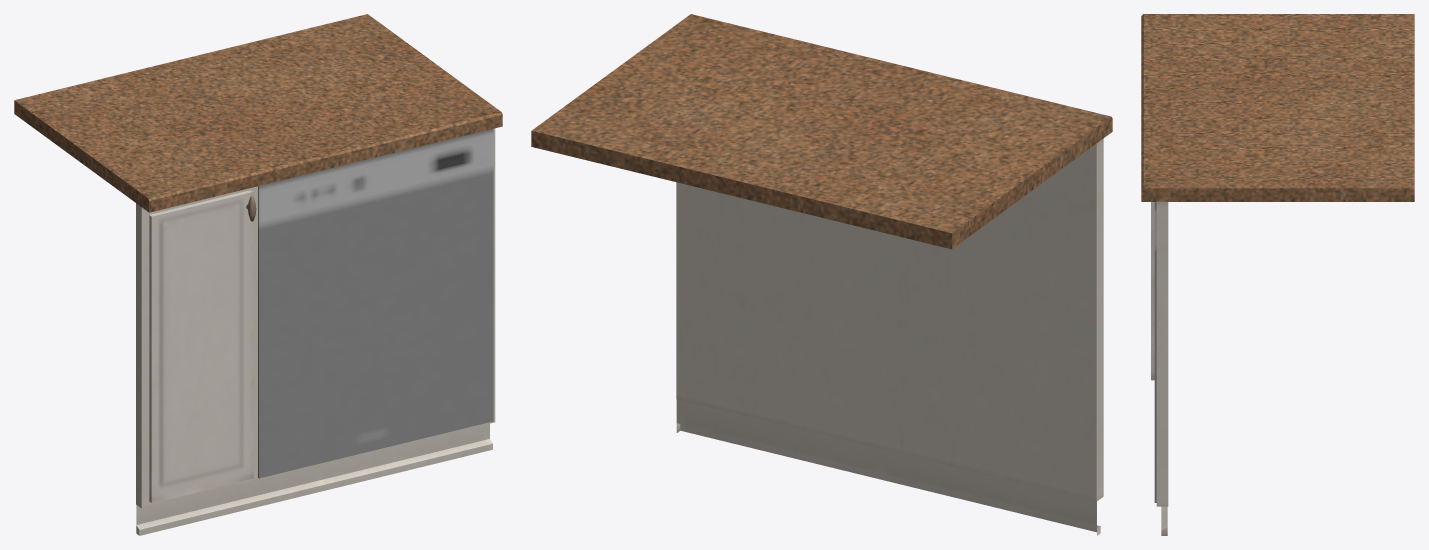
Rendered from KitCabinet_Lo_1x_Dishwasher.FBX.
3 views of the same model, side by side, from view 1: azimuth 30°, elevation 25°; view 2: azimuth 150°, elevation 25°; view 3: azimuth 270°, elevation 25° (orthographic). The views are drawn at different scales.
Parts seen in each view (by area): view 1: KitCabinet_Lo_1x_Dishwasher; view 2: KitCabinet_Lo_1x_Dishwasher; view 3: KitCabinet_Lo_1x_Dishwasher.
Part boxes in pixels (x1=…): KitCabinet_Lo_1x_Dishwasher: x1=14, y1=14, x2=502, y2=535; KitCabinet_Lo_1x_Dishwasher: x1=531, y1=14, x2=1112, y2=535; KitCabinet_Lo_1x_Dishwasher: x1=1141, y1=14, x2=1414, y2=535.
Bounding box in the file's own units: 100 × 92.99 × 66.2.
